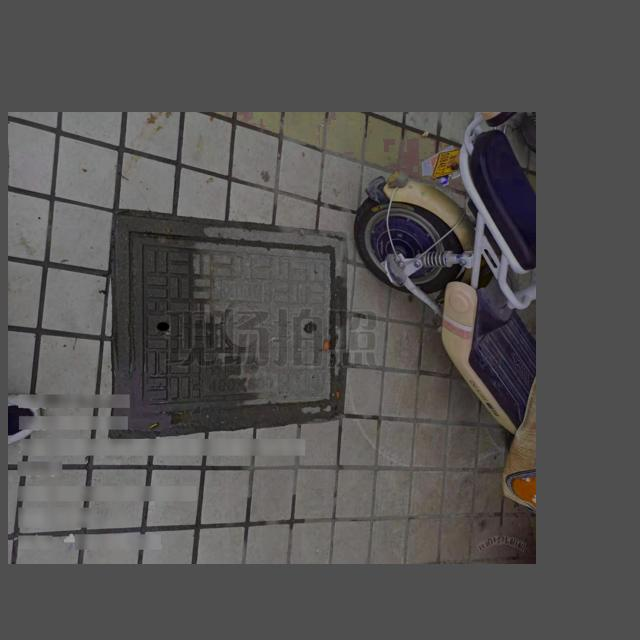good: (113, 214, 344, 425)
